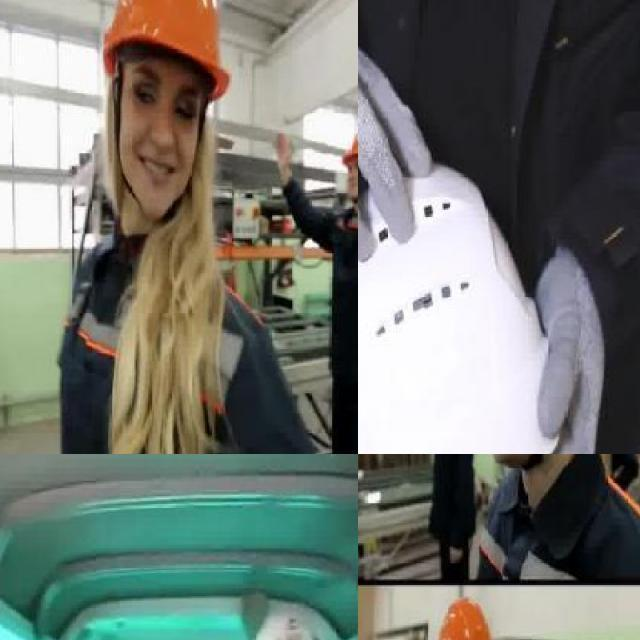apron: (506, 243, 606, 454), (358, 14, 432, 275)
